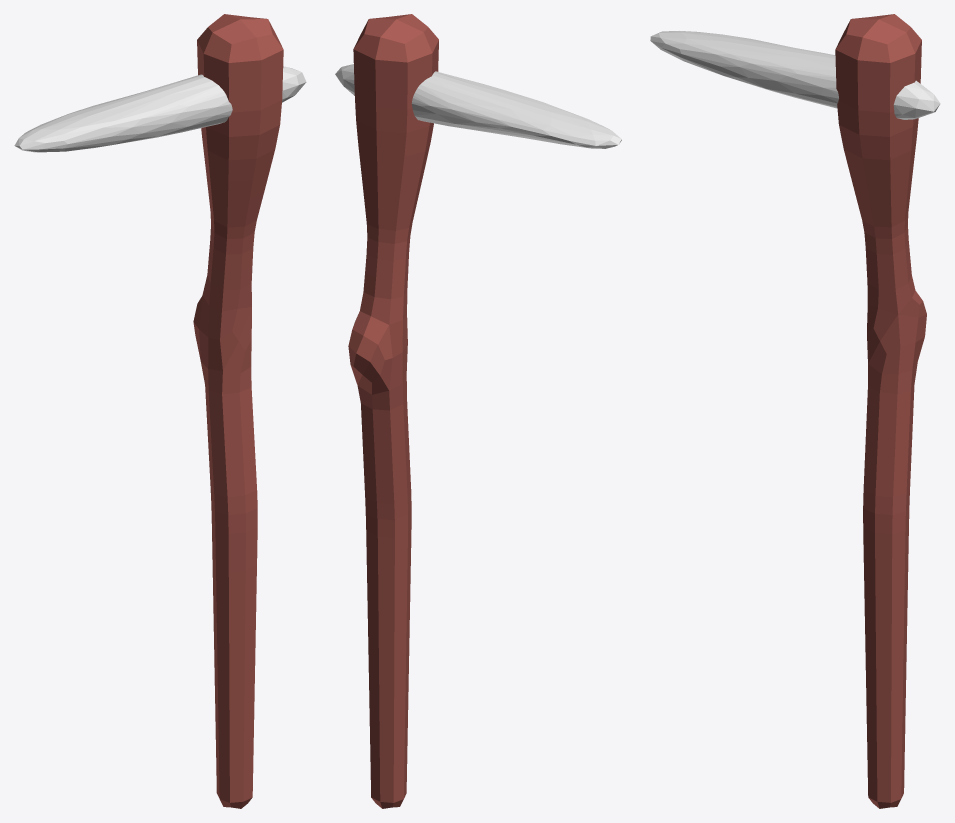
Rendered from Pick.fbx.
3 renders of one model, left to right at view 1: azimuth 30°, elevation 25°; view 2: azimuth 150°, elevation 25°; view 3: azimuth 330°, elevation 25°, orthographic.
Visible parts, largest first — view 1: Cube, Icosphere; view 2: Cube, Icosphere; view 3: Cube, Icosphere.
Part boxes in pixels (box(x1,y1,x2,y2)): Cube: box(193, 14, 283, 808); Icosphere: box(14, 66, 306, 152); Cube: box(348, 14, 438, 808); Icosphere: box(335, 64, 621, 148); Cube: box(835, 14, 926, 808); Icosphere: box(650, 31, 940, 119).
Bounding box in the file's own units: 60.85 × 161 × 20.75.
